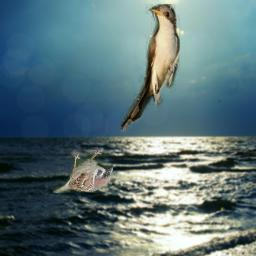Cuckoo: (120, 4, 180, 134)
Sparrow: (53, 150, 113, 193)
